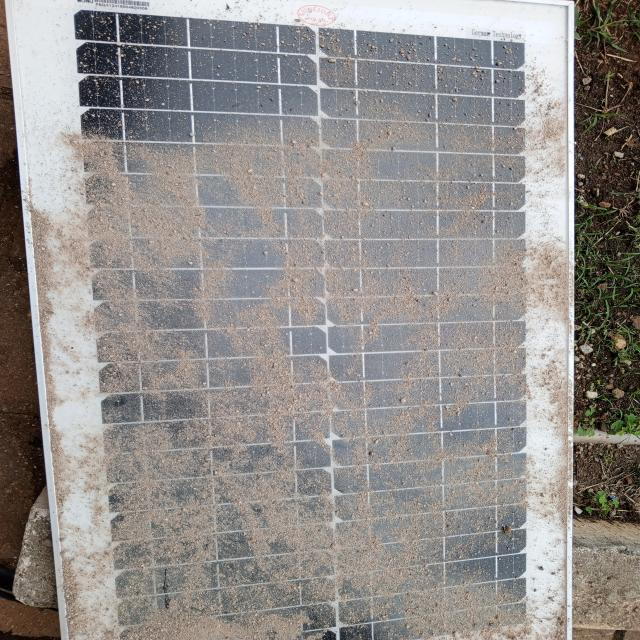Surface Contaminant: (67, 30, 560, 621)
